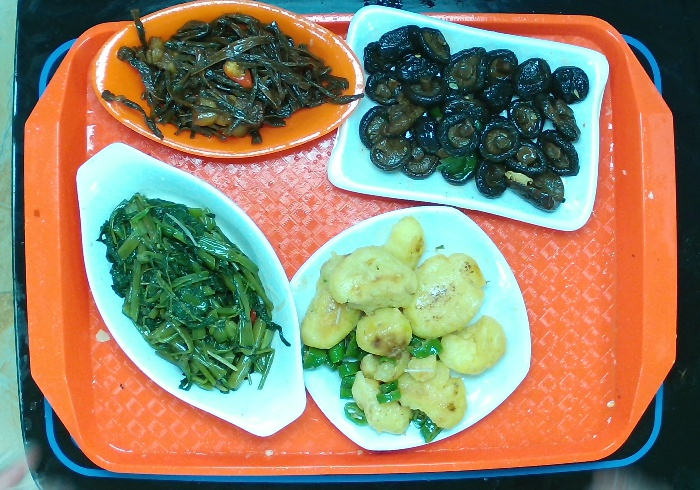RJxy-Ju_Huang_Tuo_Yuan: (88, 1, 368, 160)
RJxy-Si_Fang_Ao_Bian_Wan: (326, 3, 609, 232)
RJxy-Si_Fang_Die: (288, 204, 533, 453)
RJxy-Yu_Pan: (73, 140, 309, 437)
